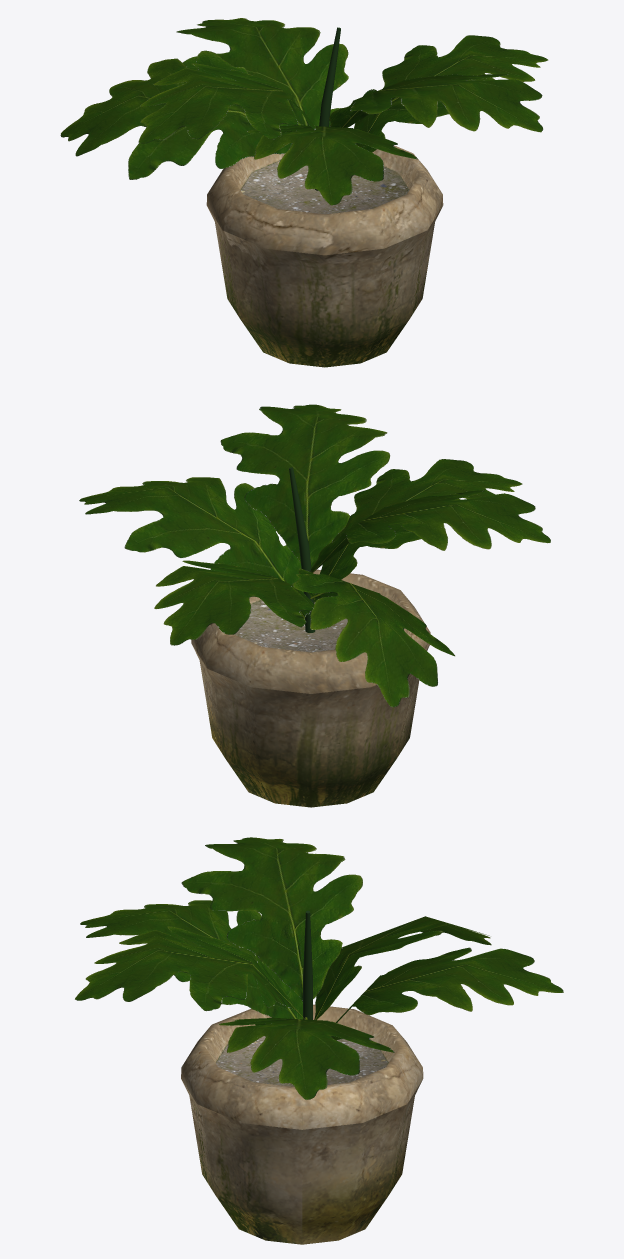
File: potted plant 02.FBX
The picture shows the model from 3 angles, top to bottom: view 1: azimuth 30°, elevation 25°; view 2: azimuth 150°, elevation 25°; view 3: azimuth 270°, elevation 25°; orthographic projection. The views are drawn at different scales.
Parts seen in each view (by area): view 1: potted plant 02; view 2: potted plant 02; view 3: potted plant 02.
Part boxes in pixels (x1,y1,x2,y2): potted plant 02: (60,18,548,367); potted plant 02: (79,404,550,807); potted plant 02: (75,837,563,1244).
Bounding box in the file's own units: 106 × 62.03 × 108.
3 materials, 2 textured.
